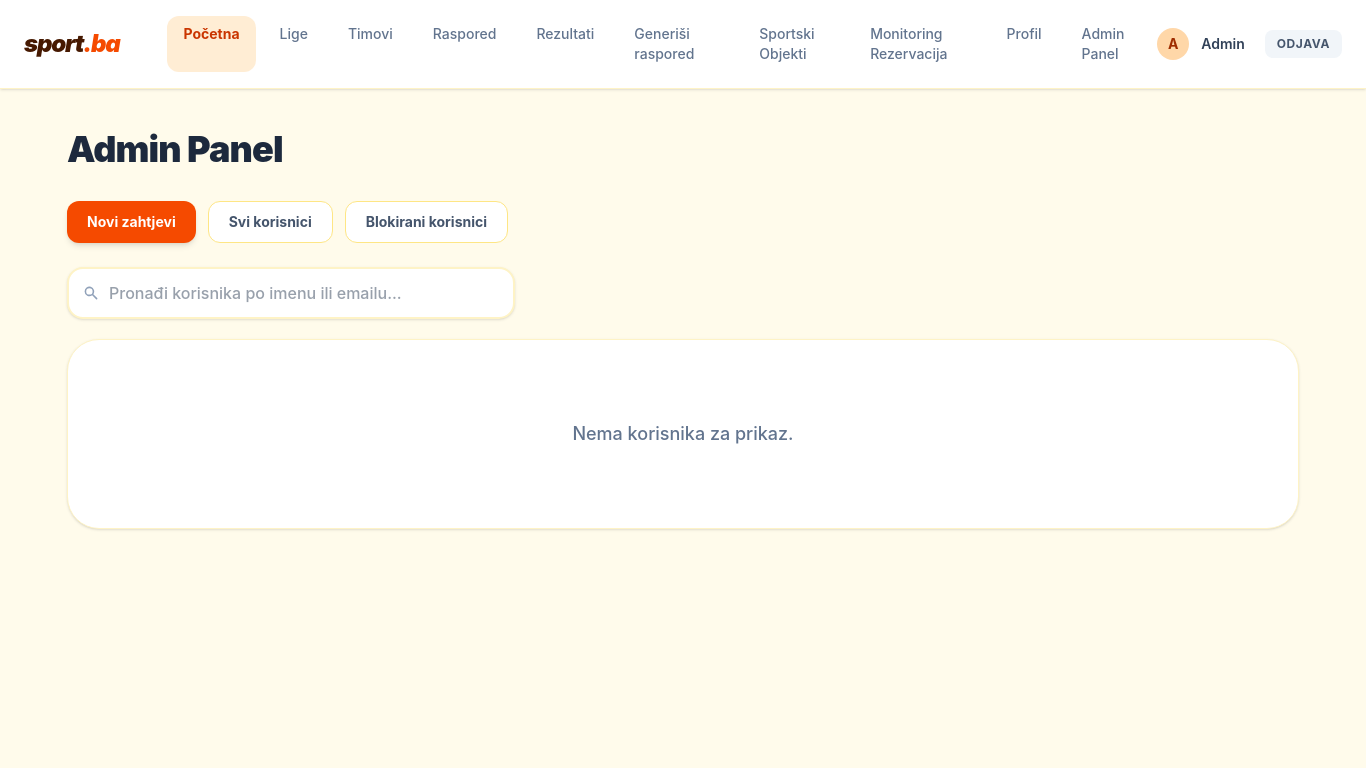
Test: AdminKorisnici UI › prikazuje potvrdu pri kliku na Odblokiraj
The width and height of the screenshot is (1366, 768).
Click the button "Blokirani korisnici" at {"x": 426, "y": 222}, box [345, 201, 508, 243]
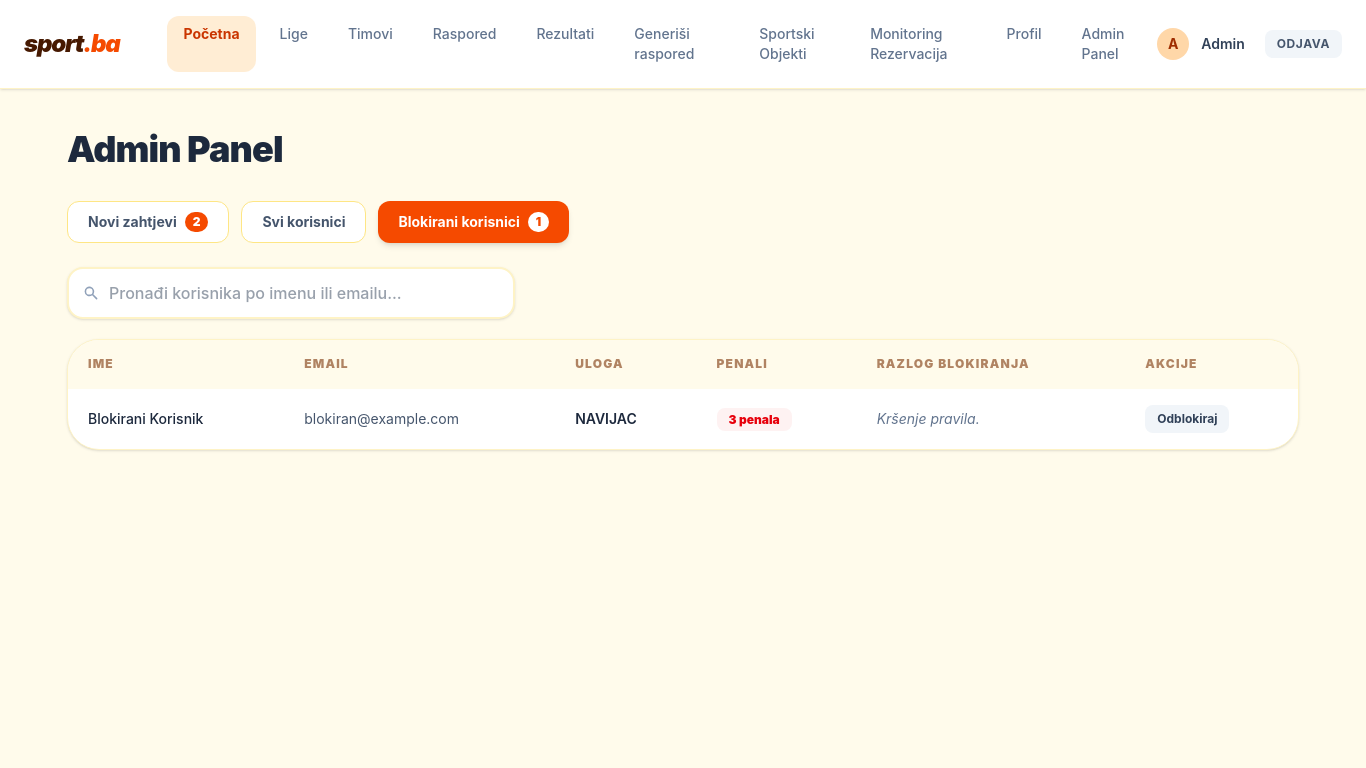
Expected: the button "Odblokiraj" is shown
Click the button "Odblokiraj" at {"x": 1187, "y": 419}, box [1145, 405, 1229, 433]
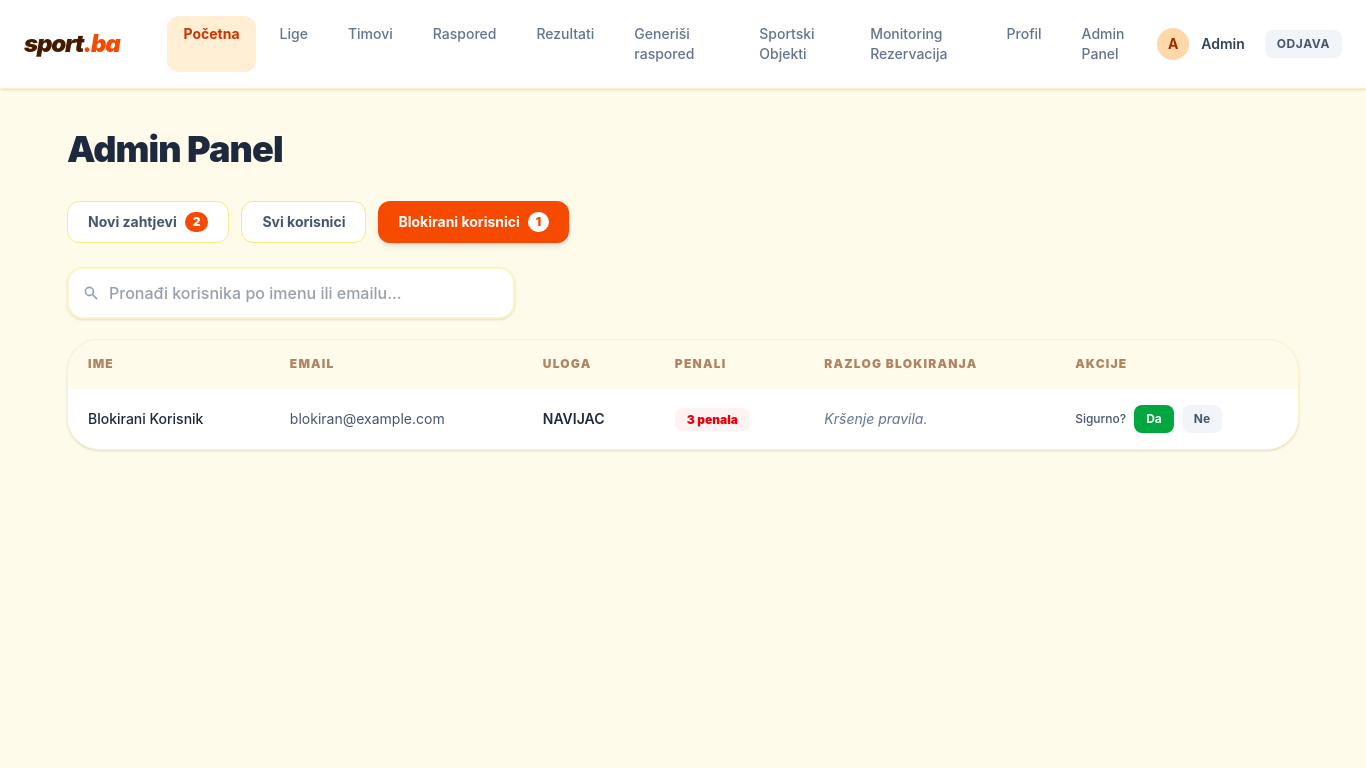
Expected: the text "Sigurno?" is shown, [1075, 411, 1126, 427]
Expected: the button "Da" is shown, [1134, 405, 1174, 433]
Expected: the button "Ne" is shown, [1182, 405, 1222, 433]
